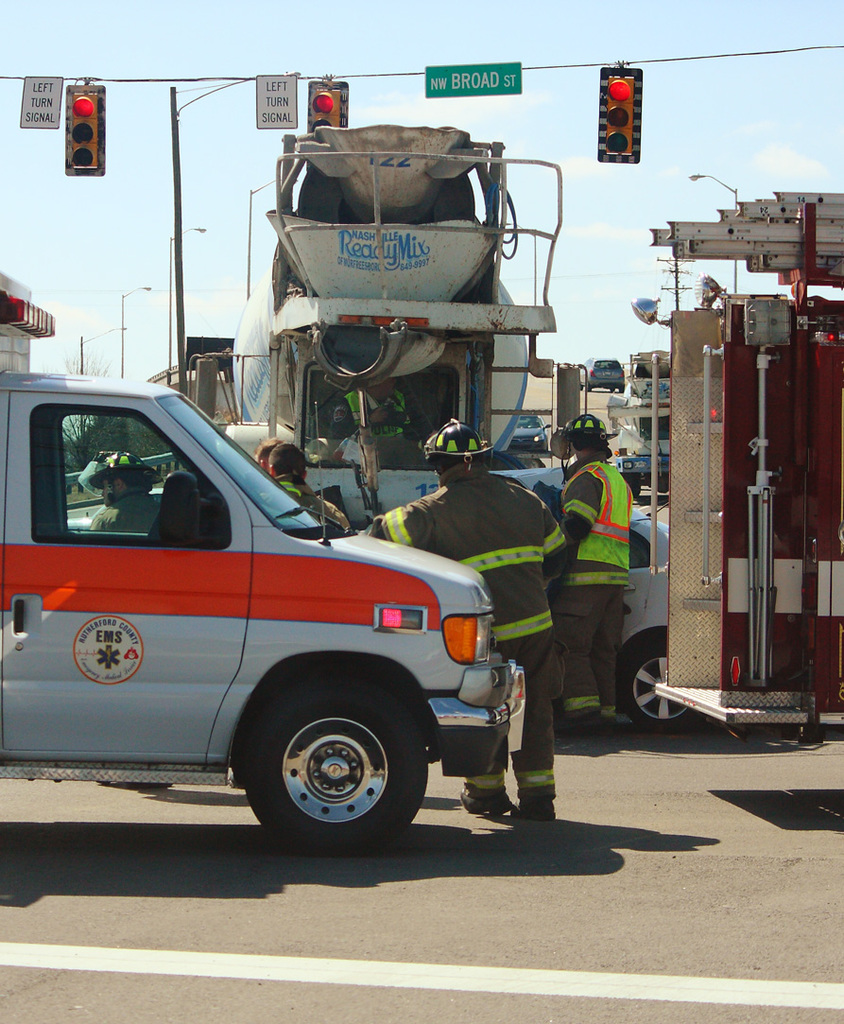red_light: (68, 85, 101, 172), (606, 67, 636, 155), (311, 80, 340, 139)
